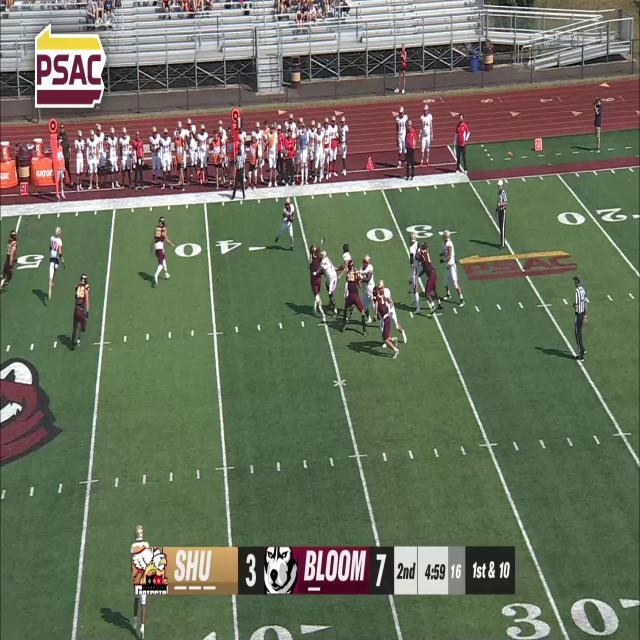football: (288, 215, 294, 222)
